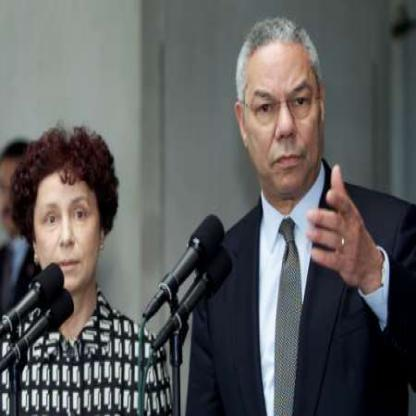face: (244, 24, 324, 198), (34, 152, 103, 294)
